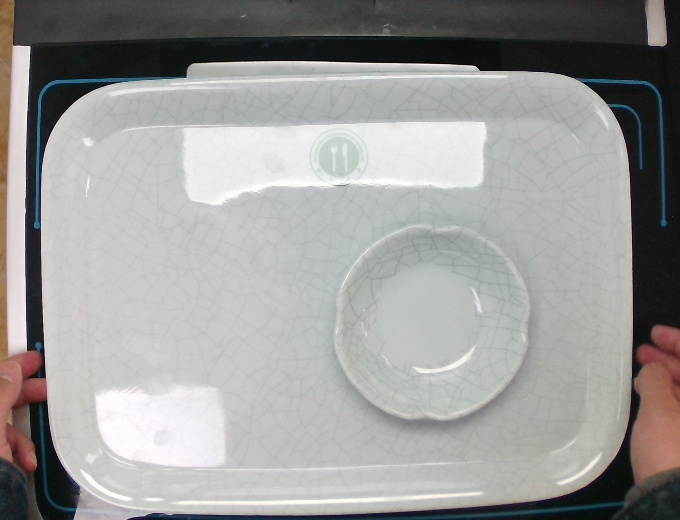JYsf-Ao_Yuan_Wan: (327, 217, 535, 426)
